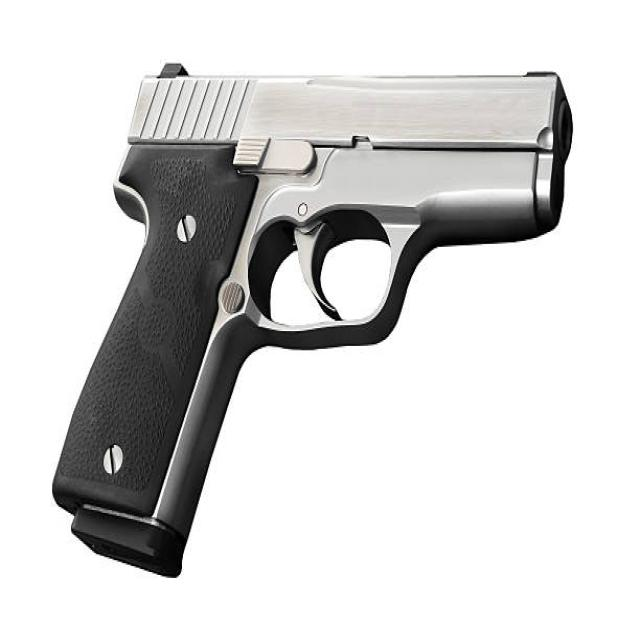pistol: (48, 56, 587, 587)
